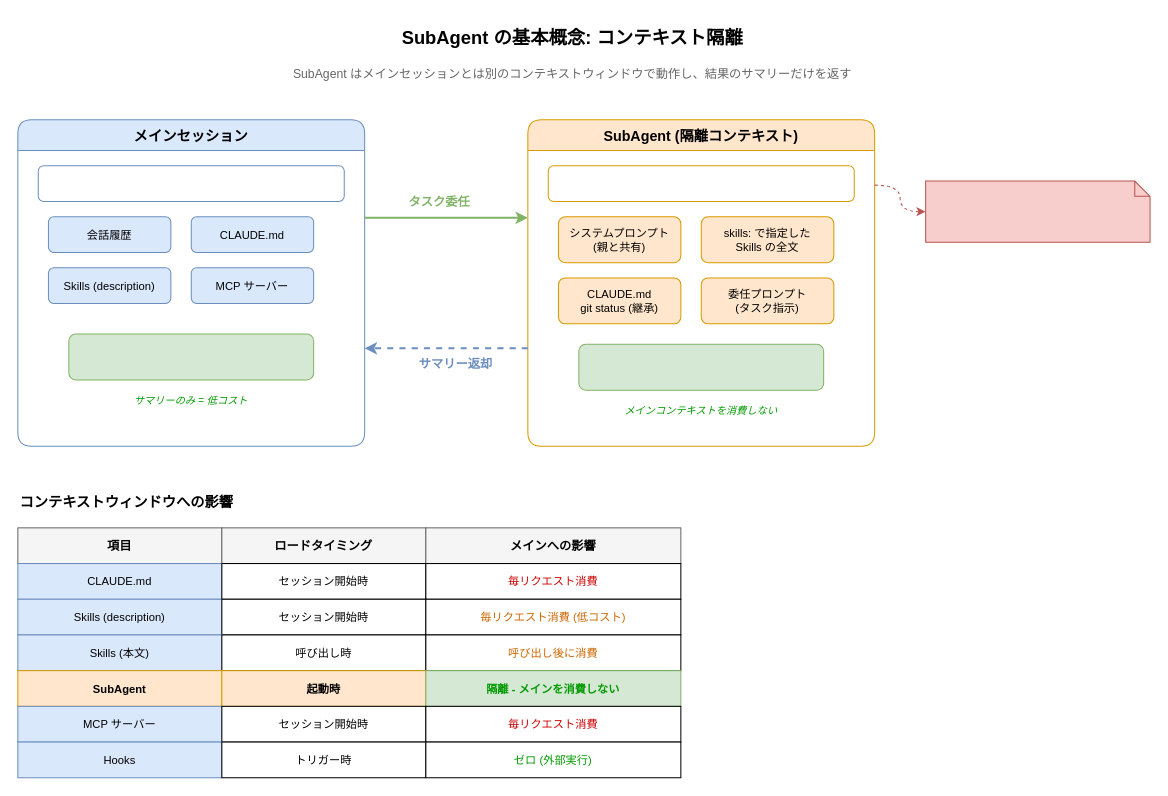
The diagram is 1168 pixels wide and 796 high, and some of its shapes have lost their labels. The box of each missing label's shape, as (x1, y1, x2, y2) in pixels:
コンテキストウィンドウ: (37, 165, 344, 201)
サマリーを受け取る (メインコンテキストに追加): (68, 333, 314, 380)
会話履歴にアクセス不可 メインで呼び出した Skills は継承しない: (925, 180, 1150, 242)
大量のファイル読み込み 調査・分析・レビュー: (578, 343, 824, 390)
独立したコンテキストウィンドウ: (547, 165, 854, 201)
